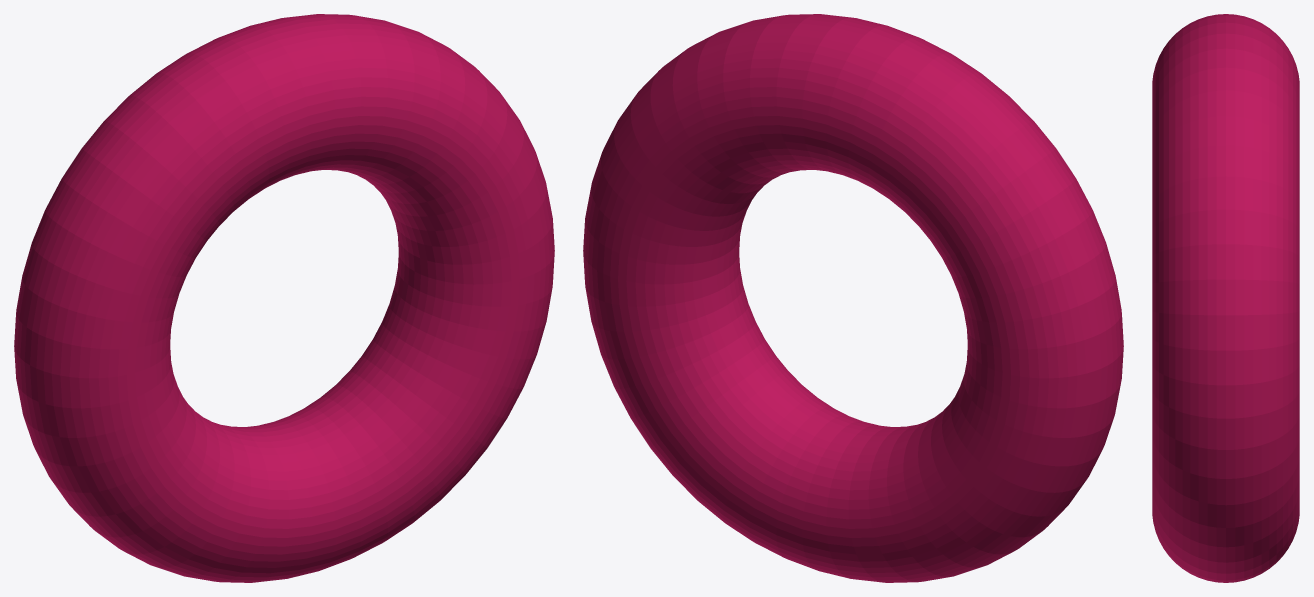
The picture shows the model from 3 angles, left to right: view 1: azimuth 30°, elevation 25°; view 2: azimuth 150°, elevation 25°; view 3: azimuth 270°, elevation 25°; orthographic projection. The views are drawn at different scales.
Parts seen in each view (by area): view 1: world; view 2: world; view 3: world.
Part boxes in pixels (bbox=[...]): world: bbox=[14, 14, 554, 582]; world: bbox=[583, 14, 1123, 582]; world: bbox=[1152, 14, 1299, 582].
Bounding box in the file's own units: 33.33 × 33.27 × 8.65.
